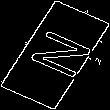N_SE: (16, 25, 94, 85)
